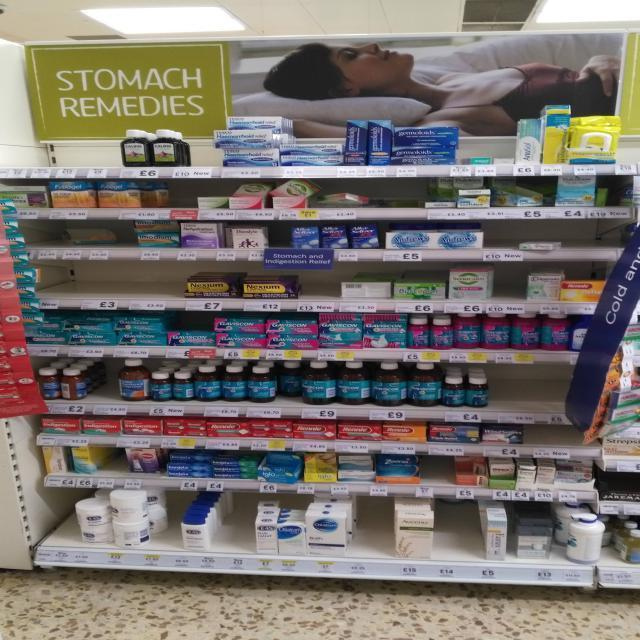Imprecise: (312, 175, 372, 207), (60, 222, 122, 248), (269, 358, 303, 401), (136, 175, 176, 210), (601, 510, 625, 562), (454, 454, 492, 484), (520, 235, 562, 252)
